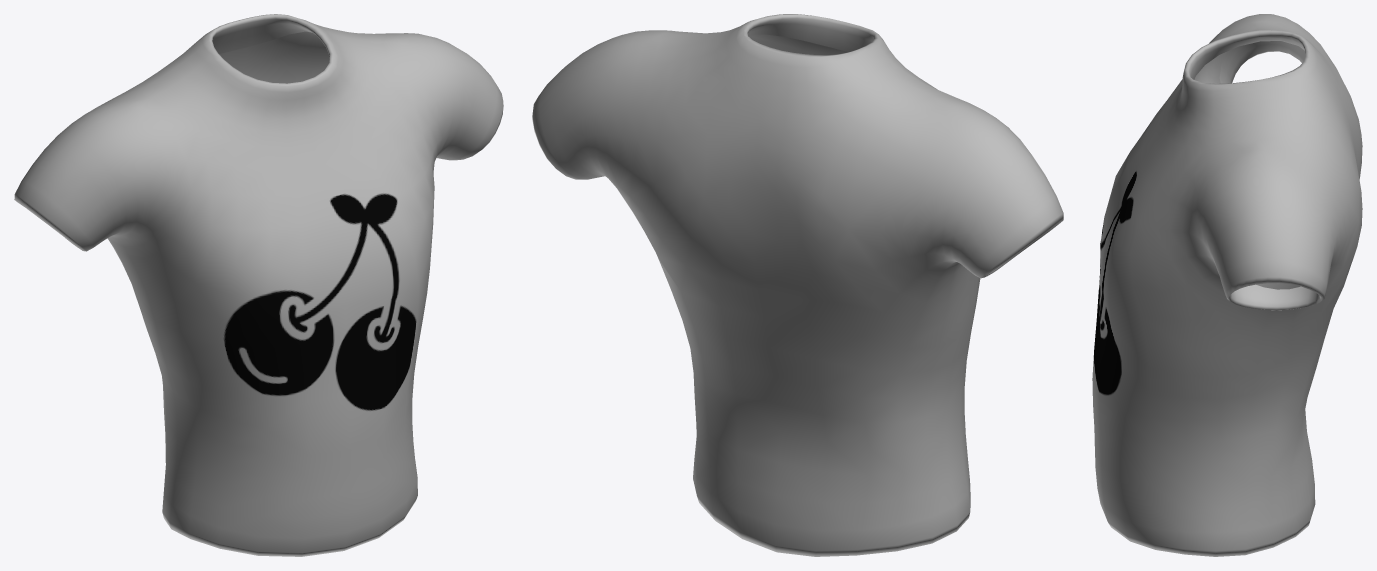
Rendered from Basic Tee2 Model.fbx.
The picture shows the model from 3 angles, left to right: view 1: azimuth 30°, elevation 25°; view 2: azimuth 150°, elevation 25°; view 3: azimuth 270°, elevation 25°; orthographic projection. The views are drawn at different scales.
Visible parts, largest first — view 1: Basic Tee2; view 2: Basic Tee2; view 3: Basic Tee2.
Part boxes in pixels (x1,y1,x2,y2): Basic Tee2: (14, 14, 503, 556); Basic Tee2: (532, 14, 1063, 556); Basic Tee2: (1092, 14, 1362, 556).
Bounding box in the file's own units: 939 × 871 × 463.
1 material, 1 textured.
